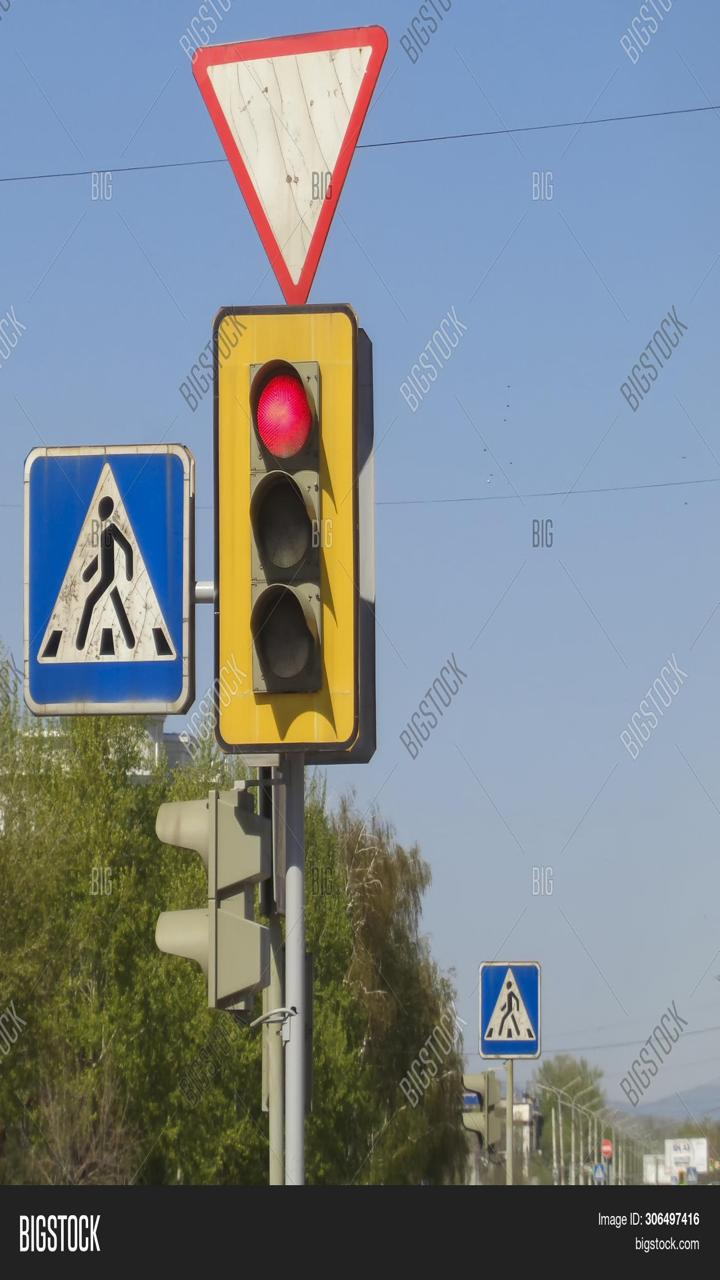Traffic sign: (207, 298, 388, 764), (186, 1, 424, 307), (22, 443, 195, 719), (453, 929, 555, 1084)
